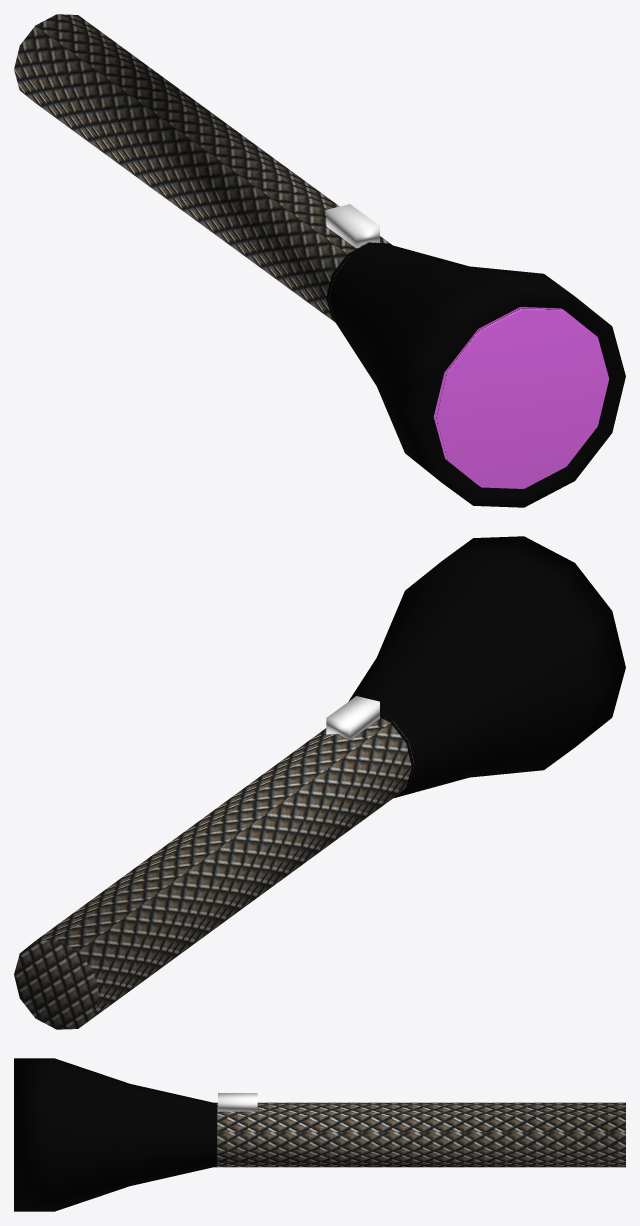
The model's file is Flashlight2.fbx.
The picture shows the model from 3 angles, top to bottom: view 1: azimuth 30°, elevation 25°; view 2: azimuth 150°, elevation 25°; view 3: azimuth 270°, elevation 25°; orthographic projection. The views are drawn at different scales.
Parts seen in each view (by area): view 1: Cylinder, Cylinder.001, Cube; view 2: Cylinder, Cube; view 3: Cylinder, Cube.
Boxes of the visible parts, x1,y1,x2,y2 form: Cylinder: [14, 14, 625, 507]; Cylinder.001: [433, 307, 609, 488]; Cube: [326, 204, 379, 248]; Cylinder: [14, 536, 625, 1029]; Cube: [326, 696, 379, 739]; Cylinder: [14, 1058, 625, 1211]; Cube: [218, 1093, 257, 1111].
Size of the model in its own units: 119 by 119 by 474.
